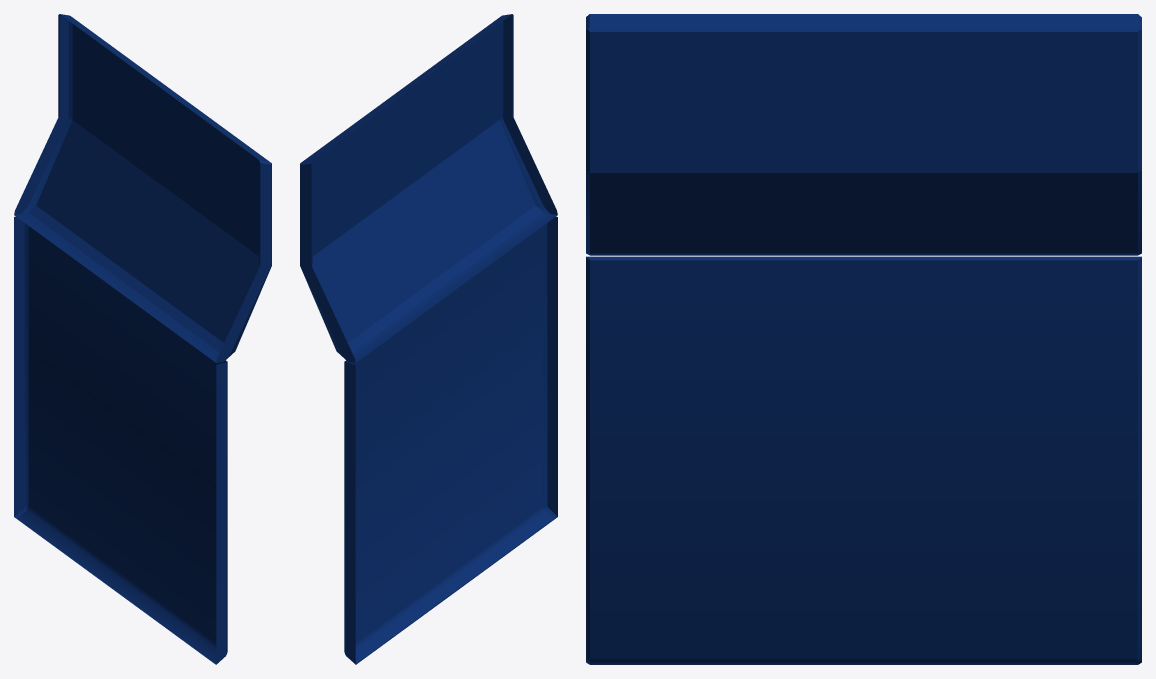
Rendered from Module_Ss_wall_2xJ_thick1.FBX.
3 renders of one model, left to right at view 1: azimuth 30°, elevation 25°; view 2: azimuth 150°, elevation 25°; view 3: azimuth 270°, elevation 25°, orthographic. The views are drawn at different scales.
Parts seen in each view (by area): view 1: Module_Ss_wall_2xJ_thick1b, Module_Ss_wall_2xJ_thick1a; view 2: Module_Ss_wall_2xJ_thick1b, Module_Ss_wall_2xJ_thick1a; view 3: Module_Ss_wall_2xJ_thick1b, Module_Ss_wall_2xJ_thick1a.
Part boxes in pixels (x1,y1,x2,y2): Module_Ss_wall_2xJ_thick1b: [14, 216, 227, 664]; Module_Ss_wall_2xJ_thick1a: [14, 14, 271, 362]; Module_Ss_wall_2xJ_thick1b: [344, 216, 557, 664]; Module_Ss_wall_2xJ_thick1a: [300, 14, 557, 362]; Module_Ss_wall_2xJ_thick1b: [586, 256, 1141, 664]; Module_Ss_wall_2xJ_thick1a: [586, 14, 1141, 255].
Bounding box in the file's own units: 15.6 × 129 × 95.49.
